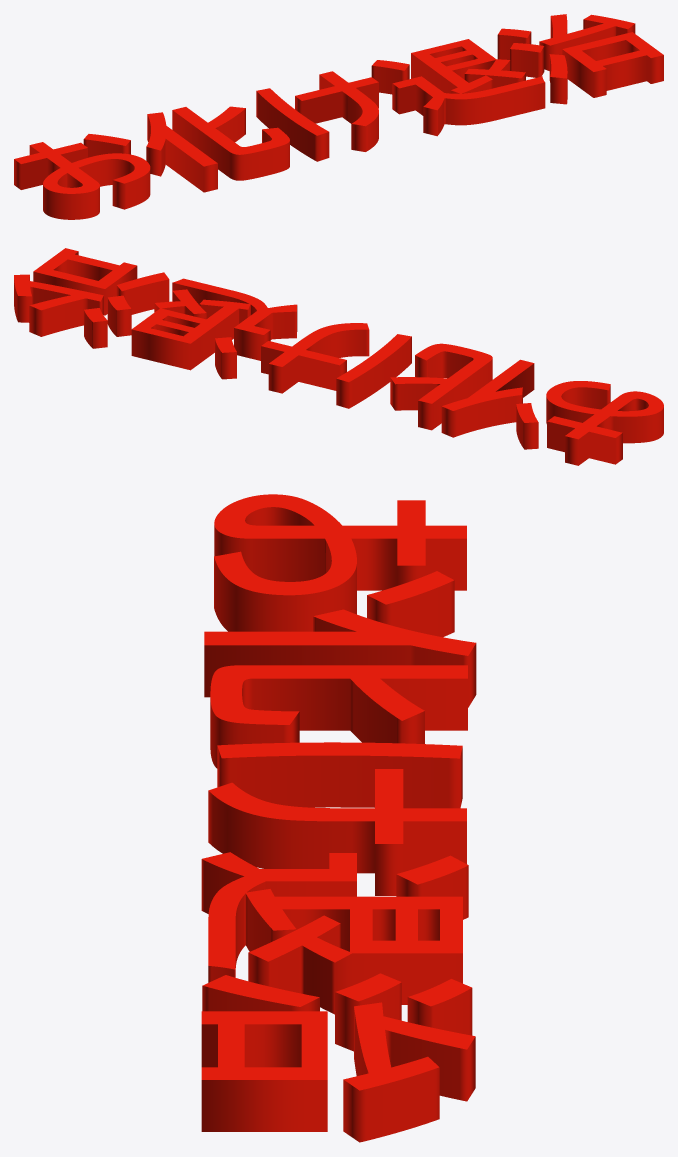
The model's file is Title.obj.
3 views of the same model, one above another, from view 1: azimuth 30°, elevation 25°; view 2: azimuth 150°, elevation 25°; view 3: azimuth 270°, elevation 25° (orthographic). The views are drawn at different scales.
Parts seen in each view (by area): view 1: テキスト; view 2: テキスト; view 3: テキスト.
Part boxes in pixels (x1,y1,x2,y2): テキスト: (14,14,663,219); テキスト: (14,248,663,465); テキスト: (201,494,476,1142).
Size of the model in its own units: 4.92 by 0.2 by 0.959.
1 material, 1 textured.
